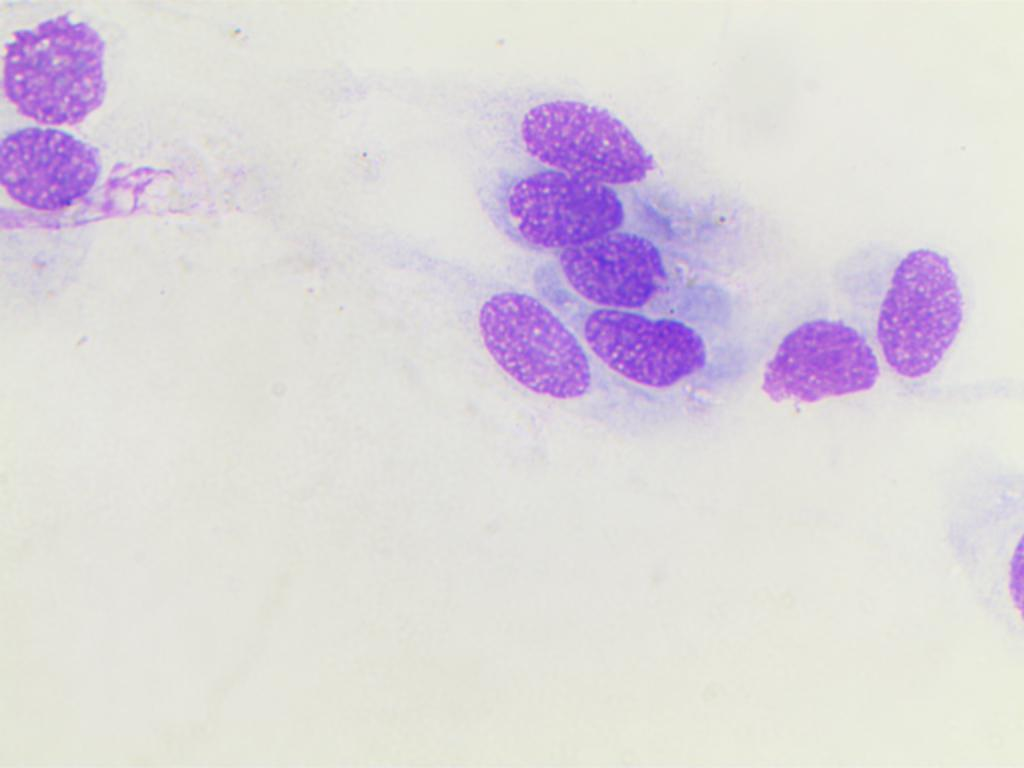epithelial: (455, 288, 594, 424), (517, 87, 667, 177), (876, 233, 965, 384), (756, 311, 878, 410), (582, 306, 717, 395), (6, 11, 112, 122), (0, 123, 100, 213), (494, 168, 622, 238), (542, 234, 670, 304)
